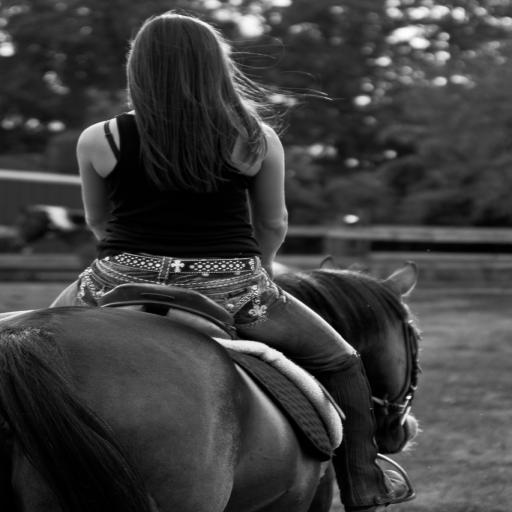horse: (0, 251, 423, 511)
